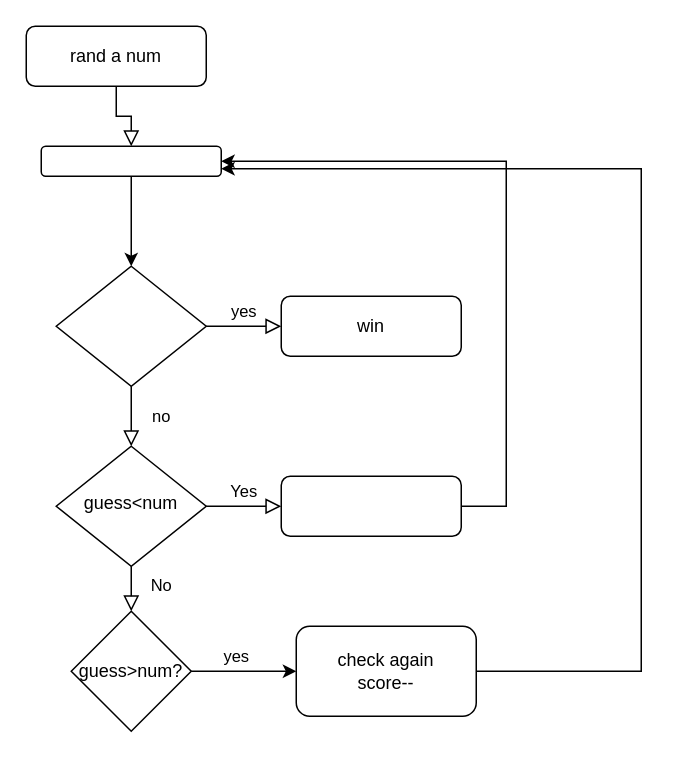
Image size: 680x758. Some labels were removed from this diagram. The shapes that lost their labels are listed below. From the top down, each one's centre as x and y in pixels, then its label:
At pixel 130 160: "guess".
At pixel 130 325: "guess=num?".
At pixel 370 505: "check again the guess is small score--".
